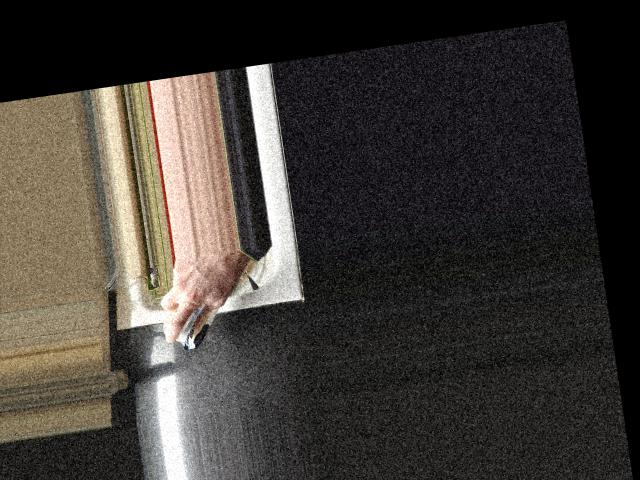cheese: (158, 257, 237, 356)
